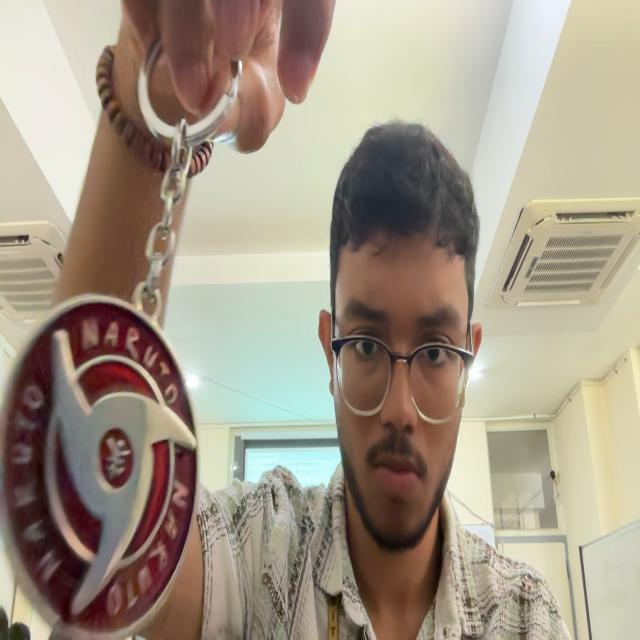dangerous: (0, 42, 242, 632)
